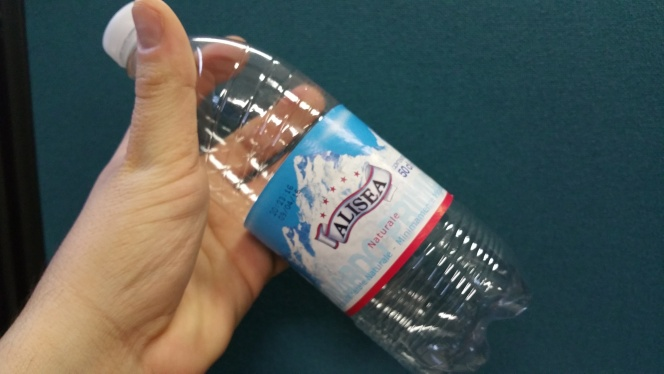bottle: (97, 1, 538, 367)
